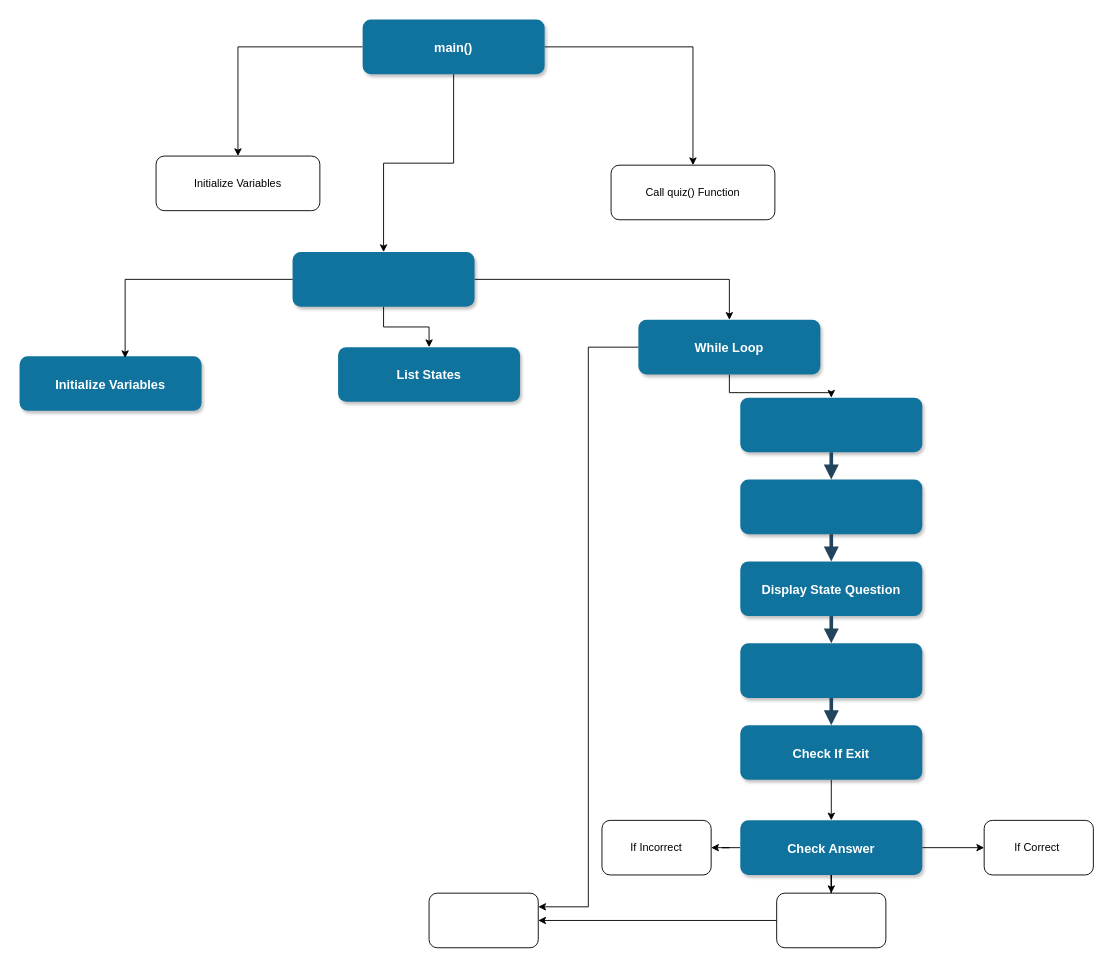
Image size: 1109x964. Some labels were removed from this diagram. Each missing label, with the centre of its shape:
End of Loop/Display Results: (483,920)
Get Correct Capital: (831,507)
Quiz() Function: (384,280)
Random State: (831,426)
Remove State From List: (831,920)
User Input: (831,671)
